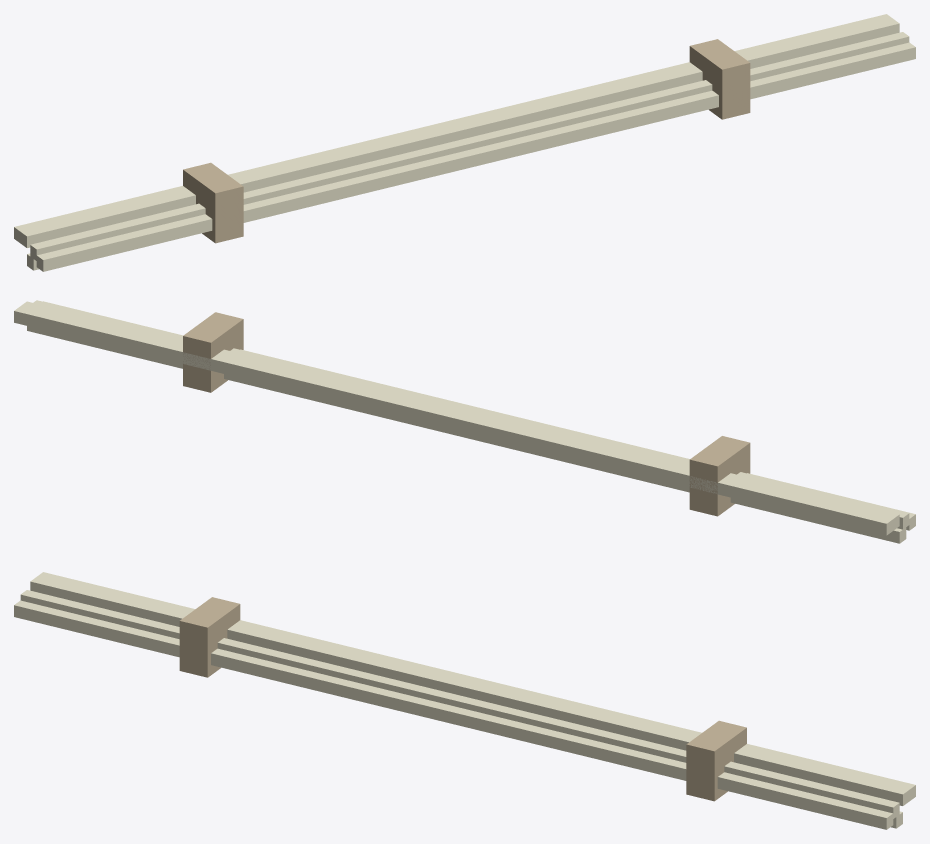
The model's file is prop-rush-bundle.fbx.
The picture shows the model from 3 angles, top to bottom: view 1: azimuth 30°, elevation 25°; view 2: azimuth 150°, elevation 25°; view 3: azimuth 330°, elevation 25°; orthographic projection.
Visible parts, largest first — view 1: prop-rush-bundle; view 2: prop-rush-bundle; view 3: prop-rush-bundle.
Boxes of the visible parts, bbox=[...] form: prop-rush-bundle: bbox=[14, 14, 915, 271]; prop-rush-bundle: bbox=[14, 300, 915, 543]; prop-rush-bundle: bbox=[14, 572, 915, 829].
Size of the model in its own units: 62 by 3.4 by 4.
